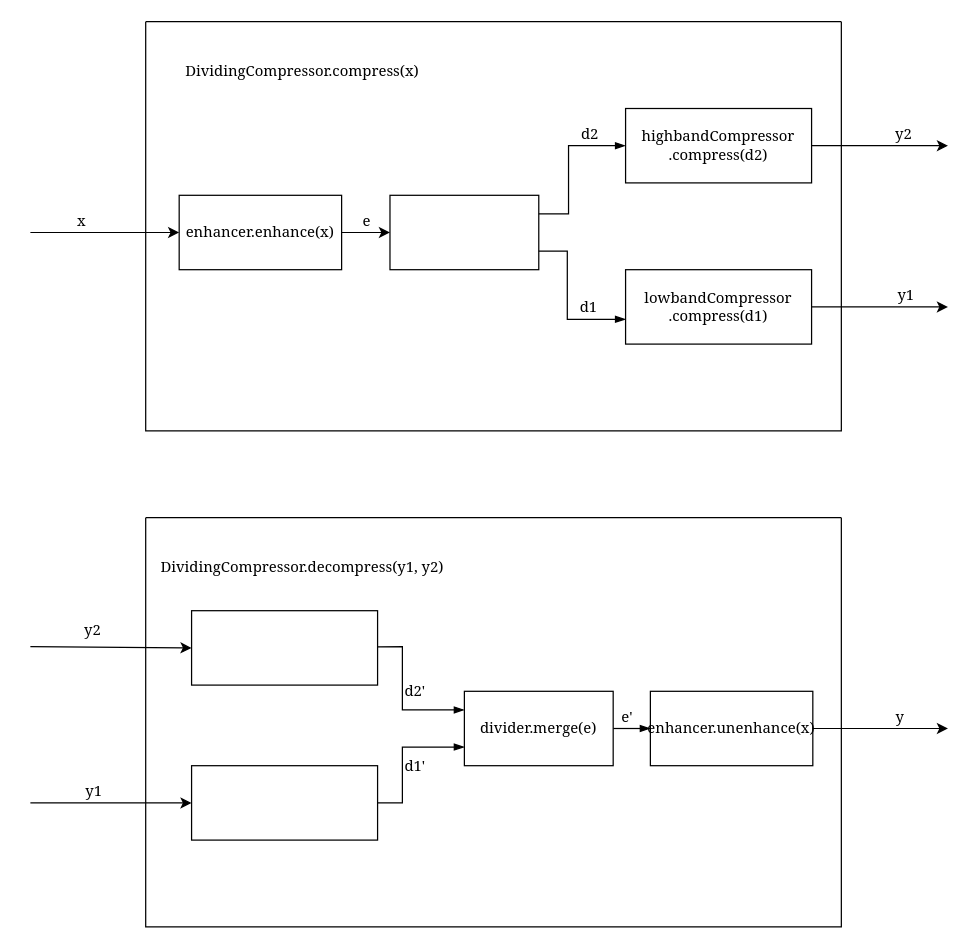
Image size: 980x949. Some labels were removed from this diagram. Each missing label, with the box of its shape:
divider.divide(e): (389, 194, 539, 270)
highbandCompressor .decompress(d2): (190, 609, 378, 685)
lowbandCompressor .decompress(d1): (190, 764, 378, 840)
